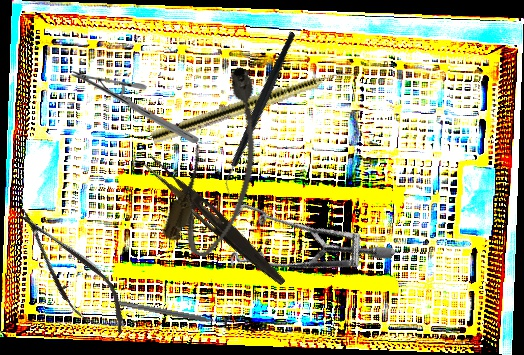Cannula: (158, 61, 287, 264)
Chopper: (177, 29, 344, 199)
Dressing Forceps: (138, 154, 293, 289)
Fixation Ring: (117, 294, 233, 332)
Handpiece: (150, 61, 358, 148)
Micro Scissor: (1, 196, 141, 348)
Needle Holder: (71, 71, 199, 143)
Speculum: (204, 153, 397, 341)
